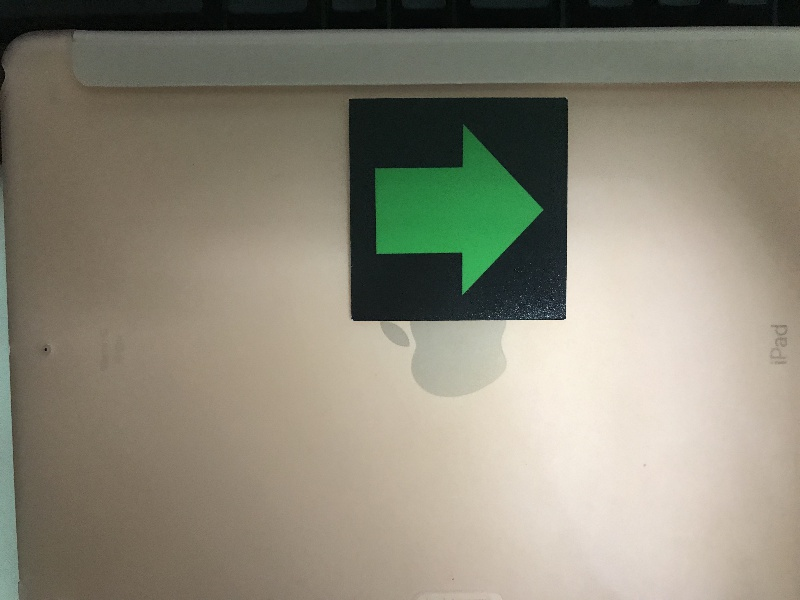RA-3: (352, 99, 564, 318)
